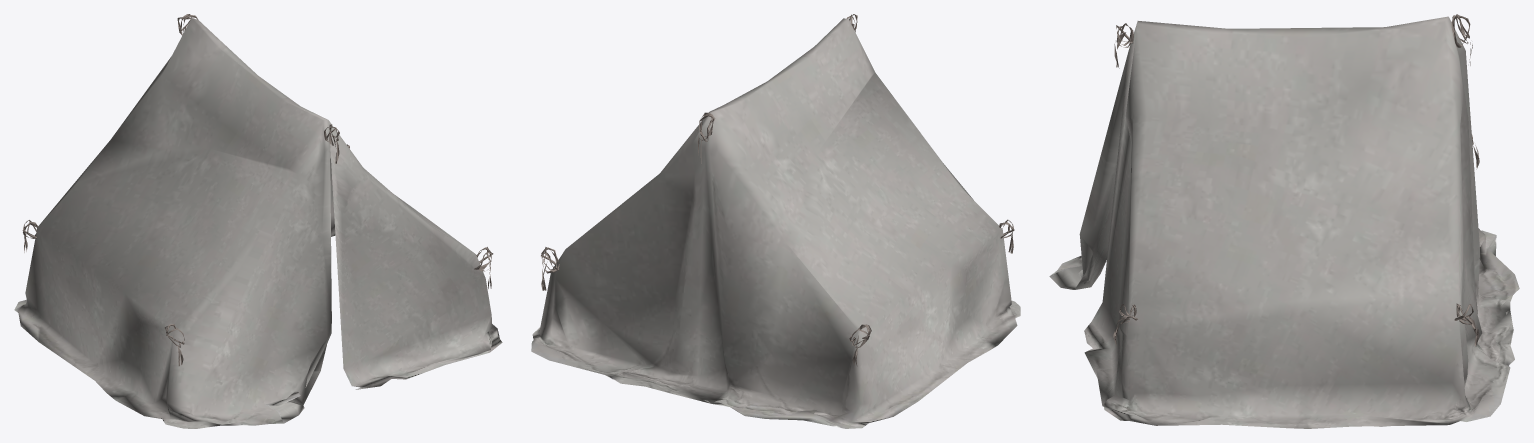
The model's file is tent-canvas.lod0.glb.
The picture shows the model from 3 angles, left to right: view 1: azimuth 30°, elevation 25°; view 2: azimuth 150°, elevation 25°; view 3: azimuth 270°, elevation 25°; orthographic projection. The views are drawn at different scales.
Parts seen in each view (by area): view 1: Tent_Tent_0, Sticks_Stick_0; view 2: Tent_Tent_0, Sticks_Stick_0; view 3: Tent_Tent_0, Sticks_Stick_0.
Boxes of the visible parts, left/top/right/bottom form: Tent_Tent_0: left=14, top=18, right=502, bottom=428; Sticks_Stick_0: left=22, top=14, right=493, bottom=366; Tent_Tent_0: left=531, top=18, right=1020, bottom=428; Sticks_Stick_0: left=541, top=14, right=1014, bottom=366; Tent_Tent_0: left=1049, top=16, right=1519, bottom=428; Sticks_Stick_0: left=1113, top=14, right=1479, bottom=346.
Size of the model in its own units: 2.99 by 2.06 by 2.85.
2 materials, 1 textured.
